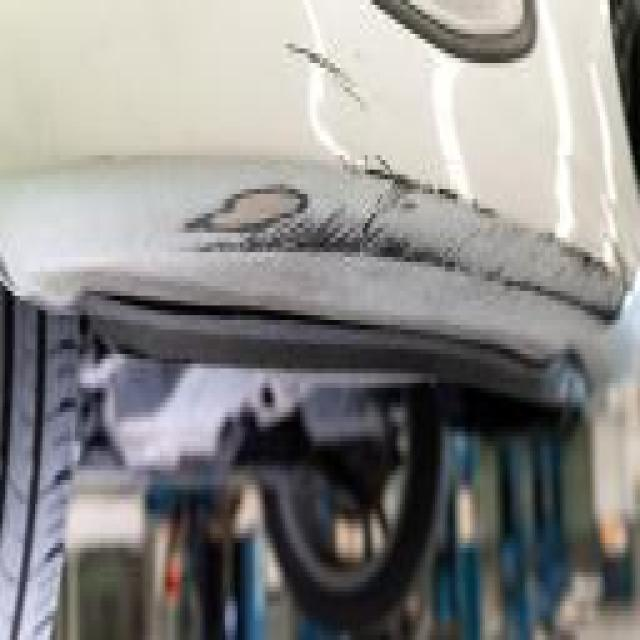Bumper: (148, 44, 640, 398)
